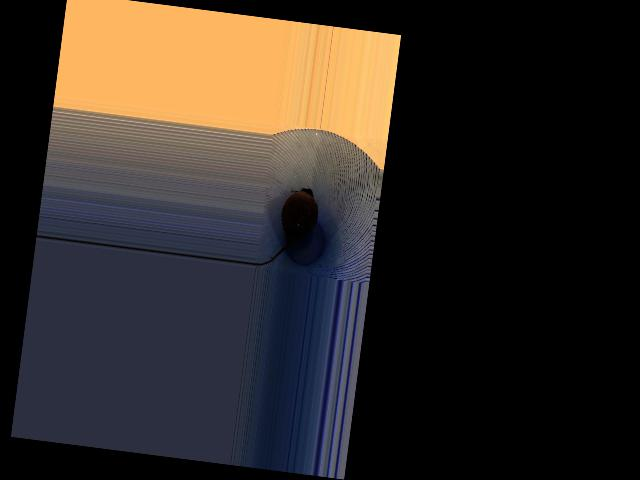beet: (254, 182, 321, 271)
